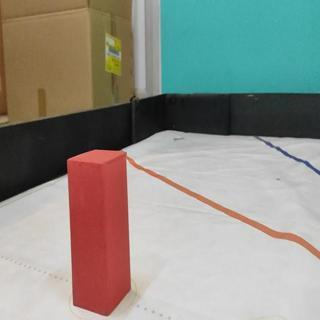redbox: (67, 148, 132, 317)
